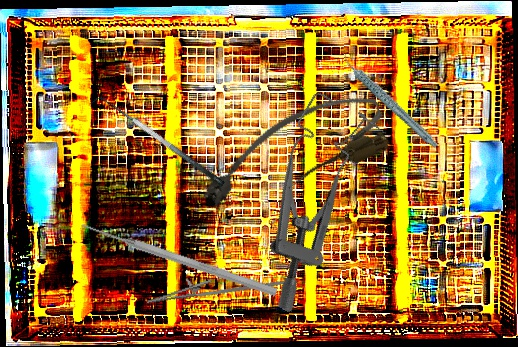Cannula: (187, 83, 396, 221)
Handpiece: (341, 37, 440, 164)
Needle Holder: (143, 251, 293, 322)
Pusher: (79, 218, 279, 299)
Spatula Surgical: (89, 88, 226, 198)
Speculum: (211, 87, 398, 315)
